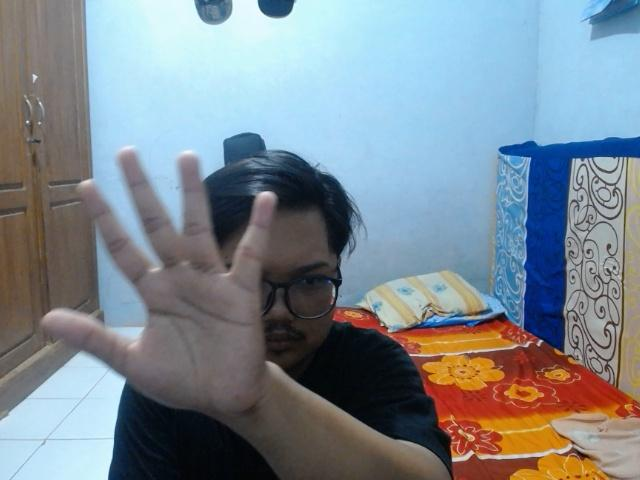Release: (32, 140, 279, 424)
